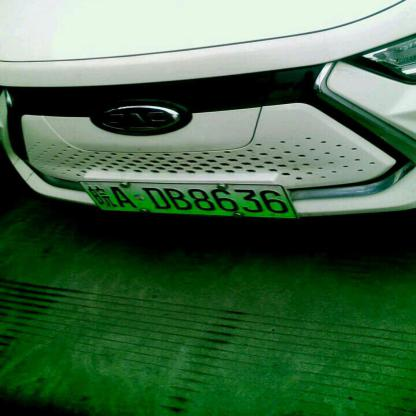lp: (78, 182, 297, 218)
